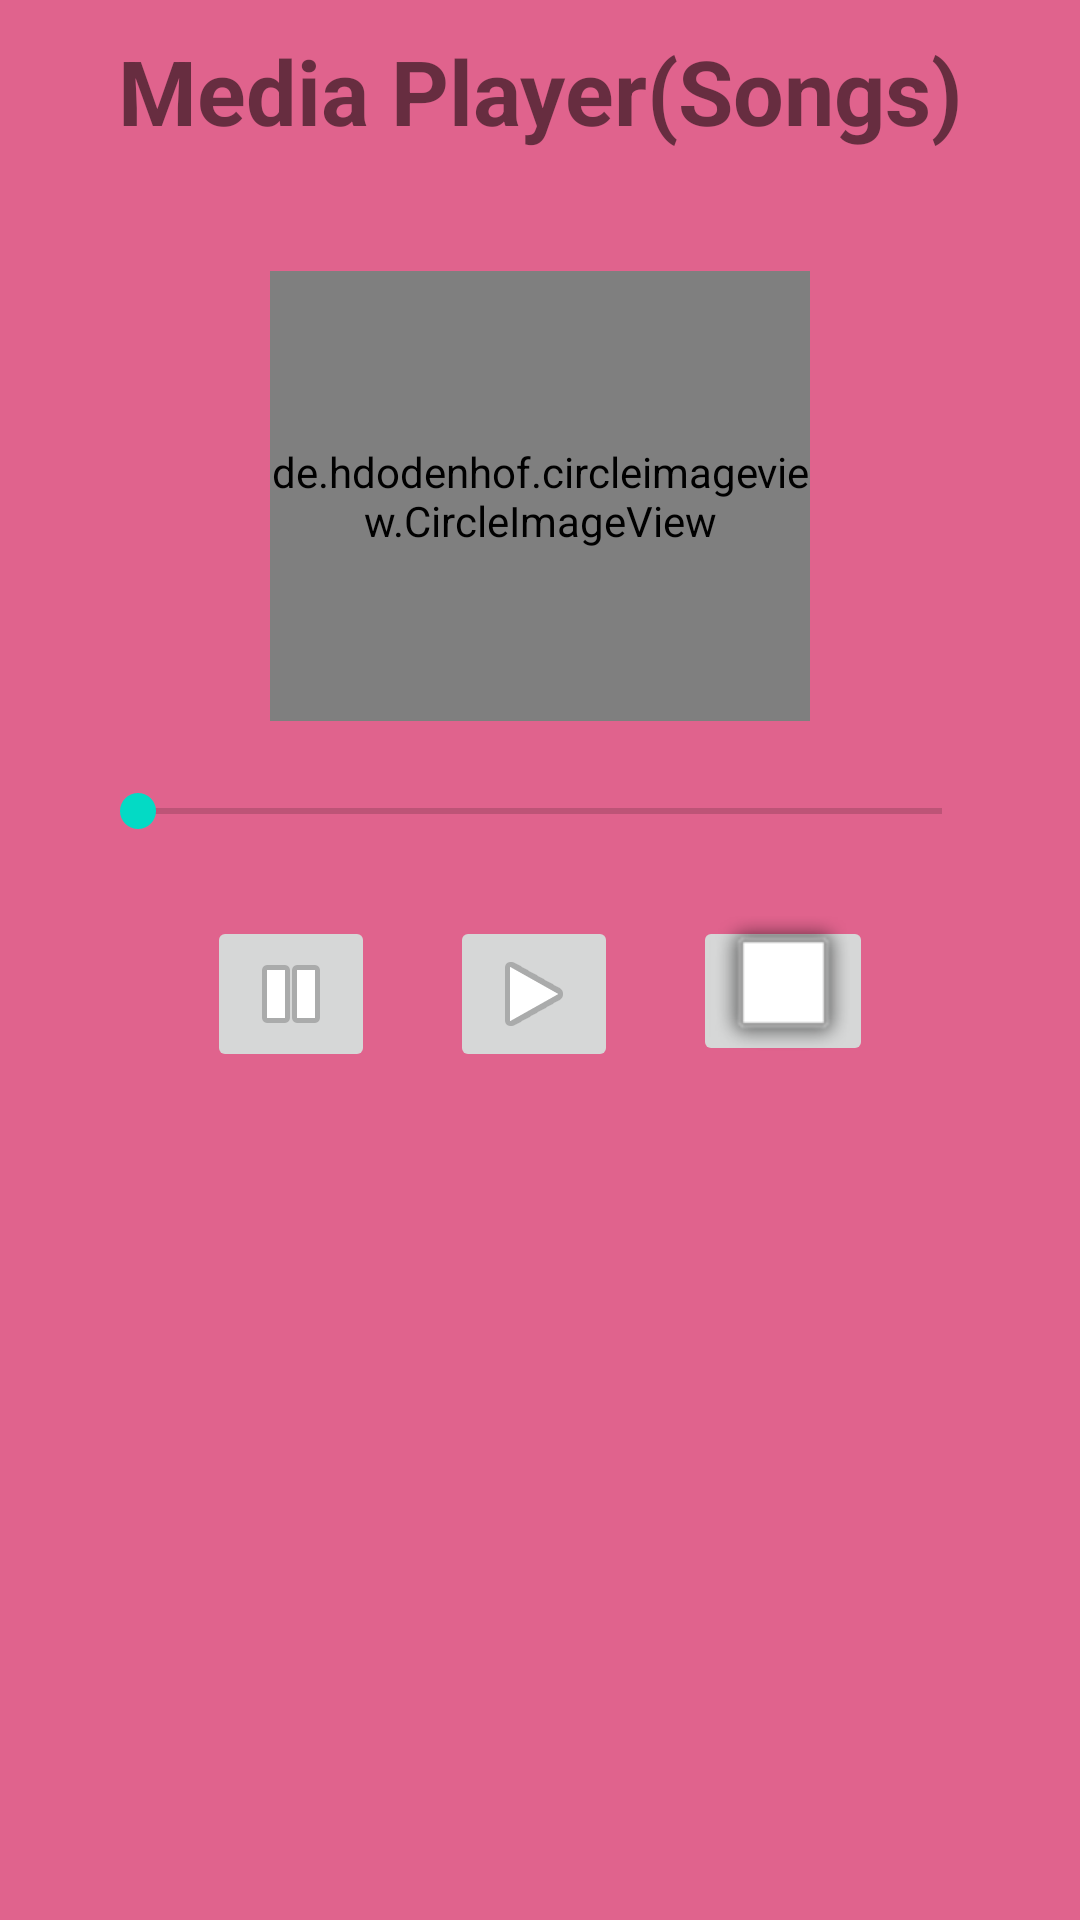

Icon click points for this 1080px x 1920px phone screenshot, format point (x, y):
pause: point (291, 994)
play: point (534, 994)
